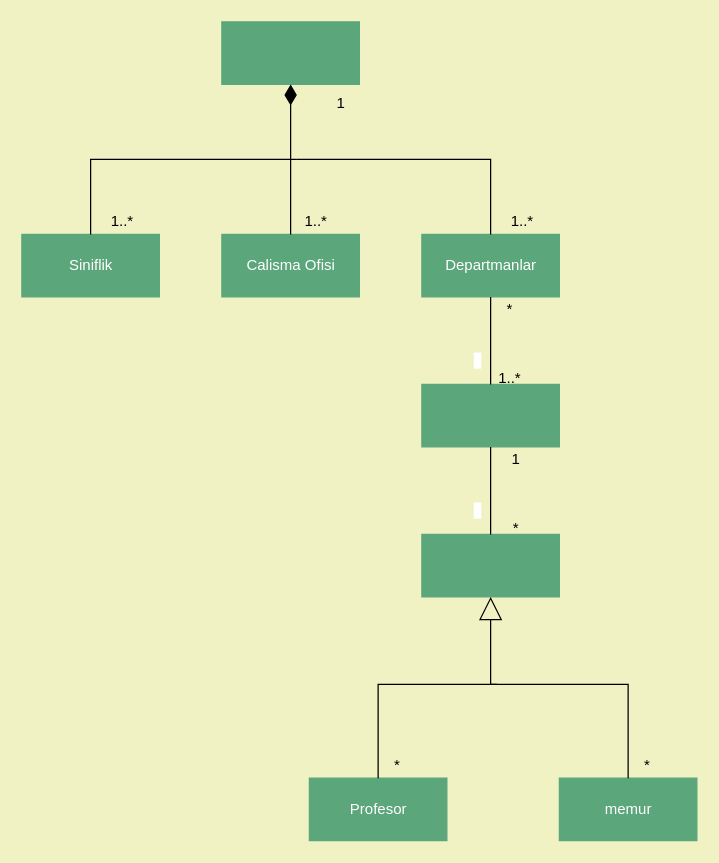
The diagram is 719 pixels wide and 863 high, and some of its shapes have lost their labels. The centre of each missing label's shape, as x and y in pixels:
Calisanlar: the point at 490,565
Ofisler: the point at 490,415
Universite: the point at 290,52
